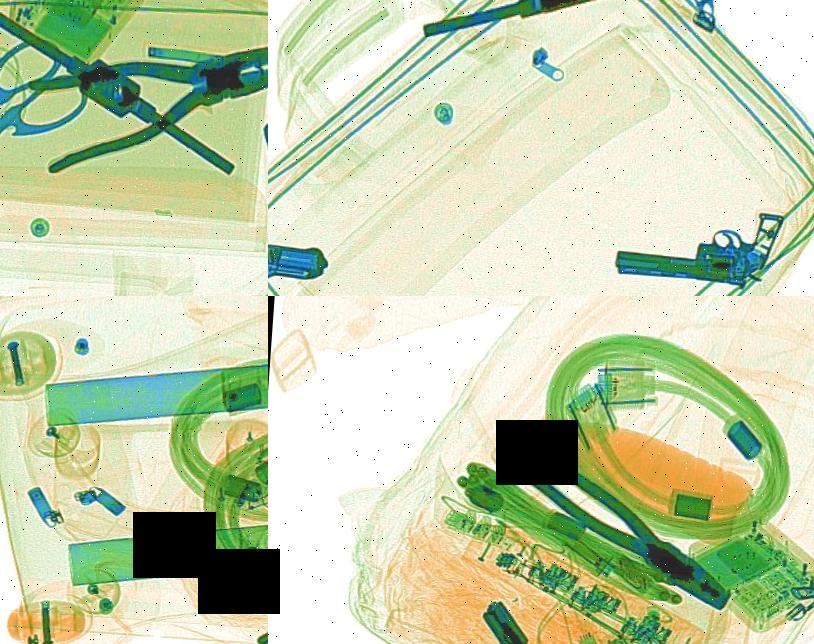Gun: (615, 198, 788, 290), (268, 140, 348, 296), (216, 0, 268, 185), (449, 594, 589, 644)
Pliers: (3, 0, 268, 193), (497, 436, 754, 620)
Scissors: (0, 15, 116, 235)
